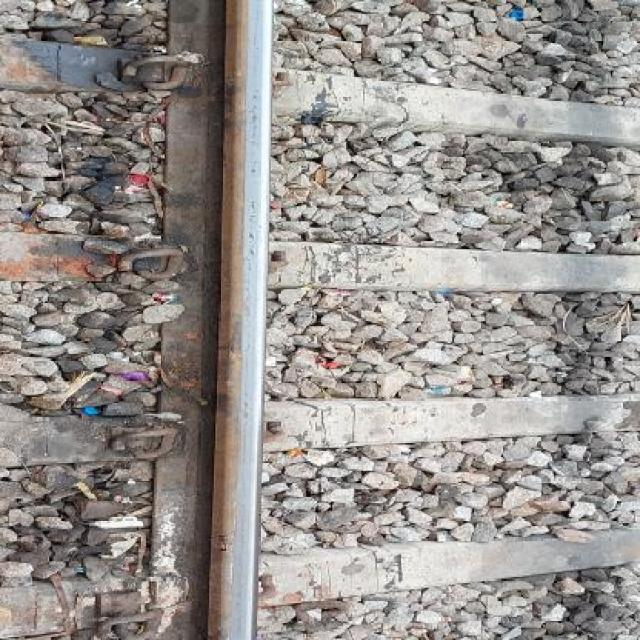non-defective: (185, 0, 325, 640)
